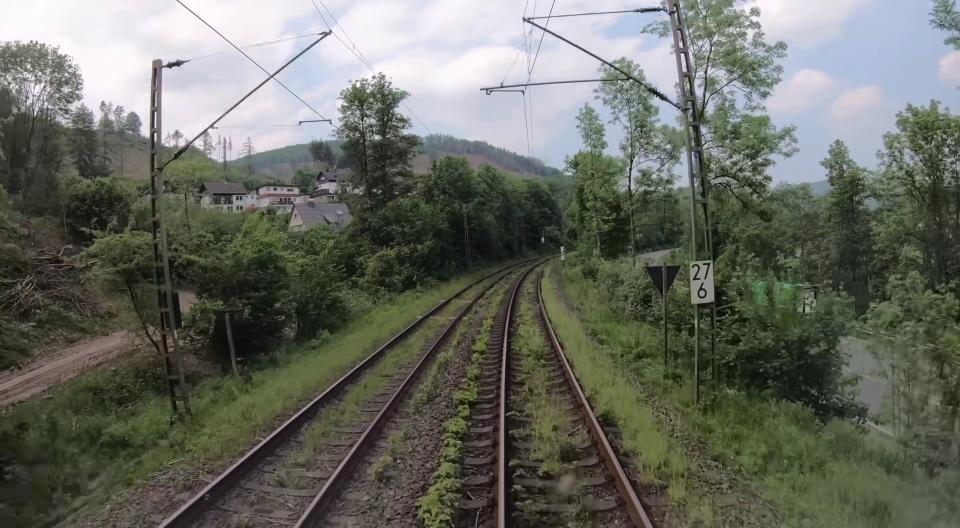Plant: (557, 265, 897, 528), (142, 270, 489, 477), (296, 264, 522, 466), (541, 267, 713, 528), (417, 286, 506, 528), (512, 266, 589, 476), (412, 348, 452, 413), (386, 430, 408, 459), (374, 461, 391, 473)
